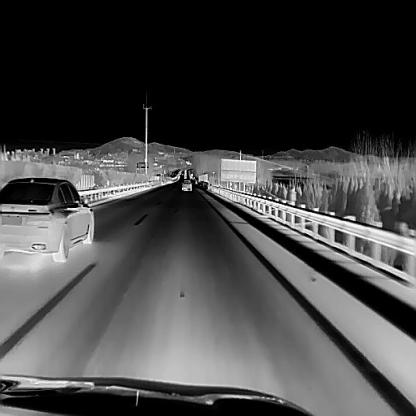car: (0, 175, 93, 263), (181, 178, 191, 189)
